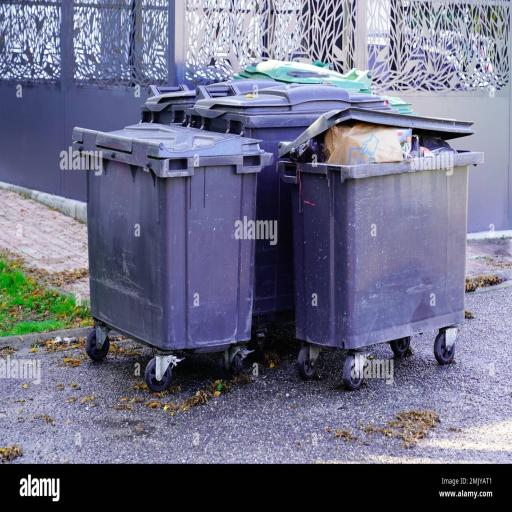contenedor_lleno: (72, 80, 483, 389)
